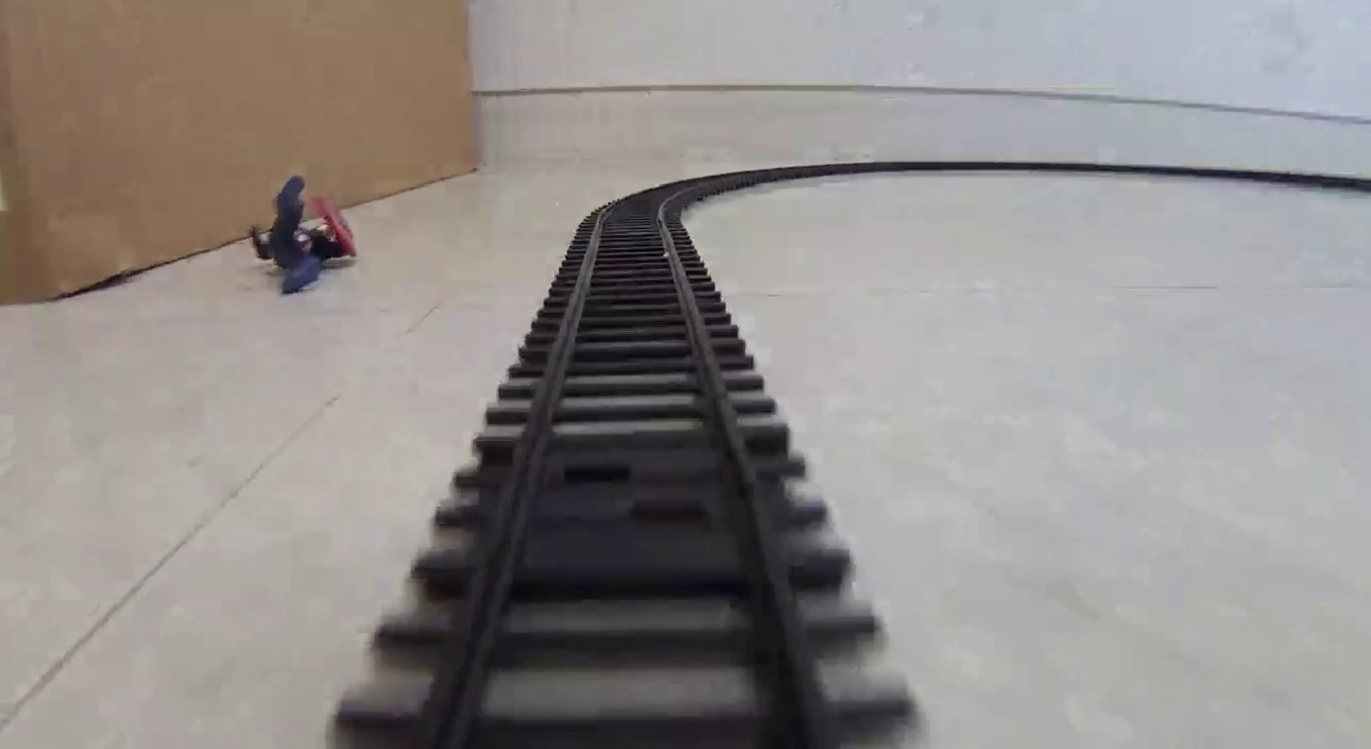people: (249, 172, 357, 294)
